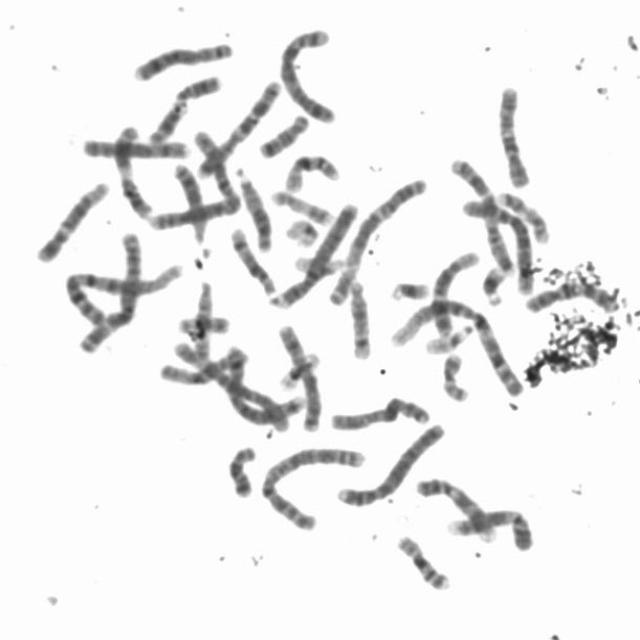A1: (385, 293, 526, 397), (59, 258, 183, 328)
A2: (255, 440, 368, 532), (147, 126, 242, 231)
A3: (324, 170, 431, 308), (73, 225, 146, 356)
B4: (268, 198, 363, 311), (331, 418, 447, 509)
B5: (221, 346, 310, 428), (274, 24, 338, 126)
C10: (492, 82, 532, 190), (521, 279, 621, 315)
C11: (144, 70, 225, 147), (110, 120, 154, 220)
C12: (31, 175, 113, 265), (425, 246, 482, 340)
C6: (166, 336, 298, 432), (458, 194, 536, 296)
C7: (444, 152, 520, 279), (193, 75, 284, 179)
C8: (127, 37, 235, 83), (76, 134, 192, 161)
C9: (410, 470, 500, 544), (441, 503, 535, 552)
D13: (232, 162, 276, 254), (168, 158, 210, 245)
D14: (225, 223, 279, 297), (344, 274, 377, 362)
D15: (154, 343, 247, 388), (188, 279, 214, 367)
E16: (392, 529, 454, 592), (282, 150, 342, 194)
E17: (493, 186, 551, 245), (267, 187, 334, 227)
E18: (255, 110, 310, 160), (224, 440, 260, 500)
F19: (276, 348, 322, 390), (282, 215, 321, 248)
F20: (437, 346, 471, 404), (174, 311, 231, 336)
G21: (478, 263, 508, 309), (386, 276, 432, 304)
G22: (421, 320, 476, 355), (292, 255, 346, 279)
X: (272, 317, 323, 434), (324, 390, 434, 432)
